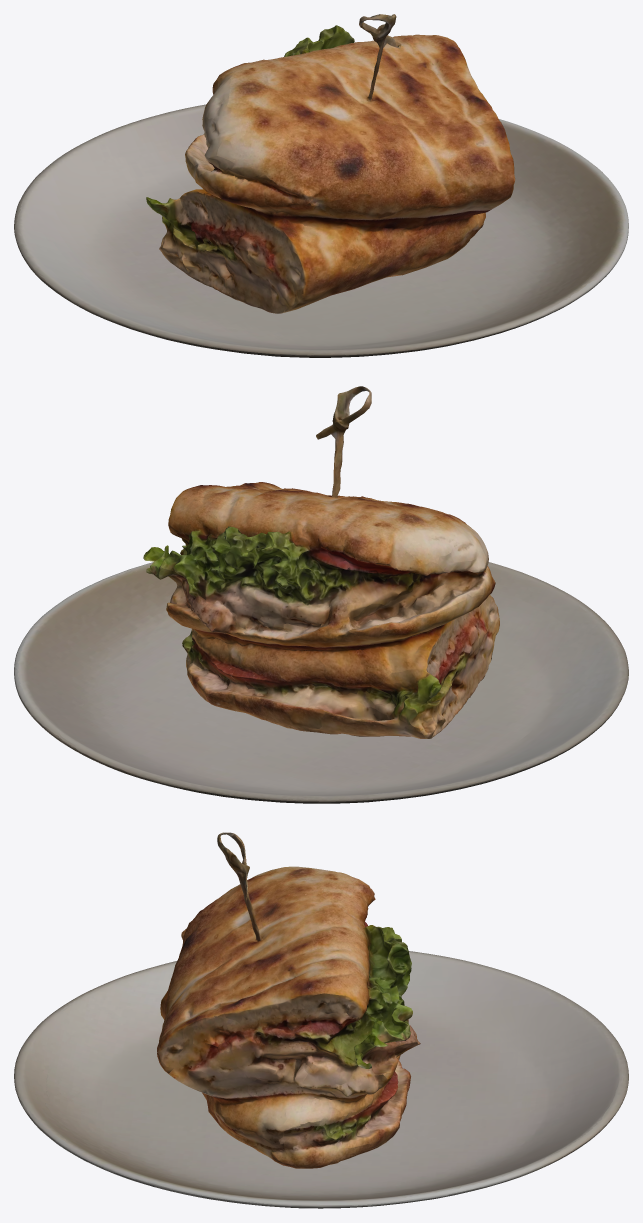
Rendered from With.baked.chicken.and.carbonara.sauce.001.glb.
The picture shows the model from 3 angles, top to bottom: view 1: azimuth 30°, elevation 25°; view 2: azimuth 150°, elevation 25°; view 3: azimuth 270°, elevation 25°; orthographic projection.
Visible parts, largest first — view 1: /Root/Scenes/Scene/Object_37/Object_38/Submesh_0, /Root/Scenes/Scene/Object_37/Object_39/Object_40/Submesh_0; view 2: /Root/Scenes/Scene/Object_37/Object_39/Object_40/Submesh_0, /Root/Scenes/Scene/Object_37/Object_38/Submesh_0; view 3: /Root/Scenes/Scene/Object_37/Object_39/Object_40/Submesh_0, /Root/Scenes/Scene/Object_37/Object_38/Submesh_0.
Part boxes in pixels (x1,y1,x2,y2): /Root/Scenes/Scene/Object_37/Object_38/Submesh_0: (146, 14, 515, 313); /Root/Scenes/Scene/Object_37/Object_39/Object_40/Submesh_0: (14, 104, 628, 357); /Root/Scenes/Scene/Object_37/Object_39/Object_40/Submesh_0: (14, 562, 628, 803); /Root/Scenes/Scene/Object_37/Object_38/Submesh_0: (143, 386, 499, 738); /Root/Scenes/Scene/Object_37/Object_39/Object_40/Submesh_0: (14, 951, 628, 1208); /Root/Scenes/Scene/Object_37/Object_38/Submesh_0: (157, 832, 420, 1168).
Bounding box in the file's own units: 0.2901 × 0.1454 × 0.2901.
Materials: 2 (2 with a texture image).
